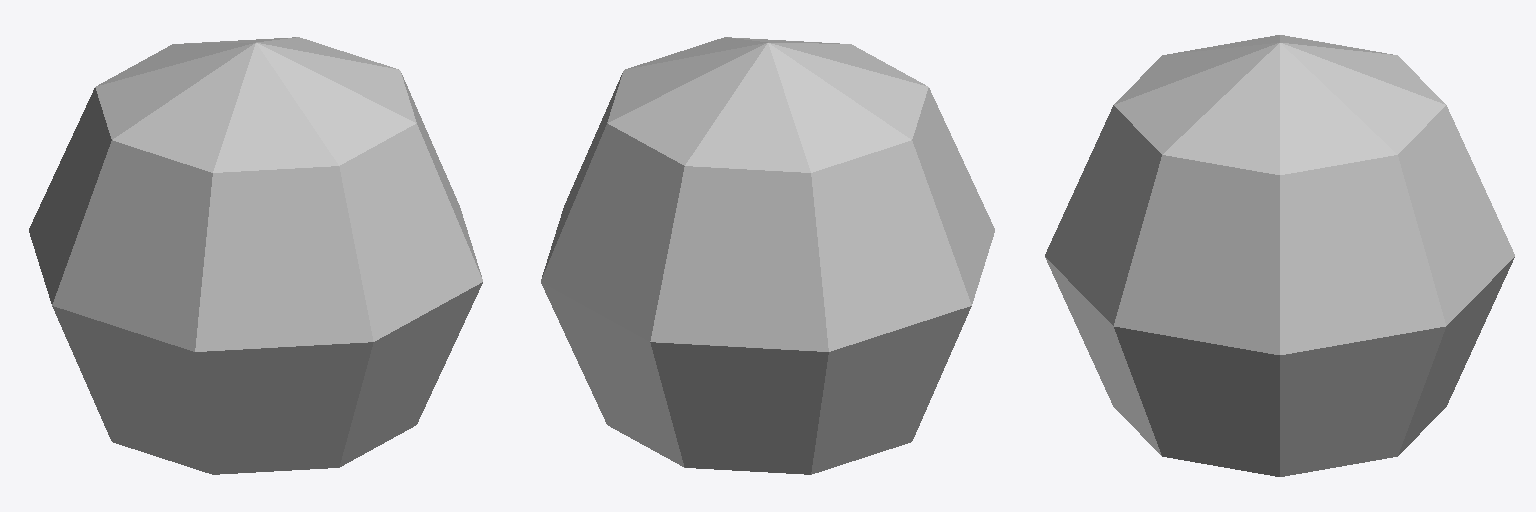
The model's file is Asteroid3.obj.
3 views of the same model, side by side, from view 1: azimuth 30°, elevation 25°; view 2: azimuth 150°, elevation 25°; view 3: azimuth 270°, elevation 25° (orthographic).
Visible parts, largest first — view 1: Sphere001; view 2: Sphere001; view 3: Sphere001.
Part boxes in pixels (bbox=[...]): Sphere001: bbox=[29, 37, 482, 474]; Sphere001: bbox=[541, 37, 994, 474]; Sphere001: bbox=[1045, 35, 1514, 476].
Size of the model in its own units: 10 by 10 by 10.